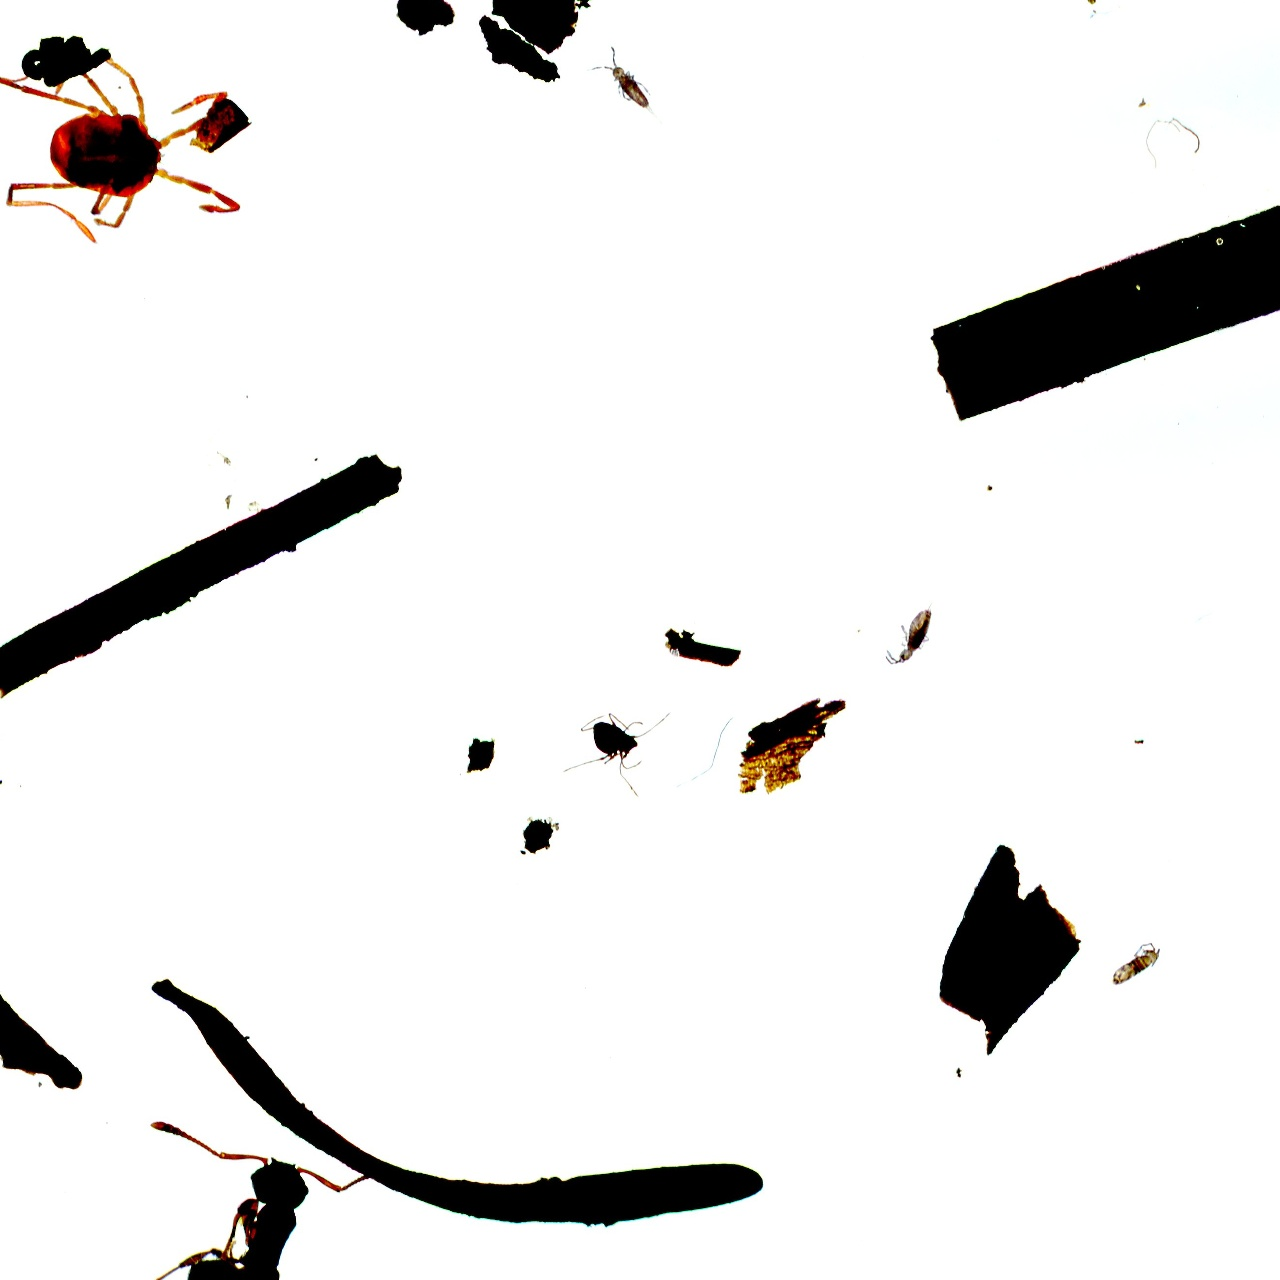arthropod: (0, 48, 248, 247), (122, 1102, 384, 1280), (576, 31, 686, 143), (556, 703, 676, 802), (1083, 913, 1190, 1022), (870, 579, 950, 691)
